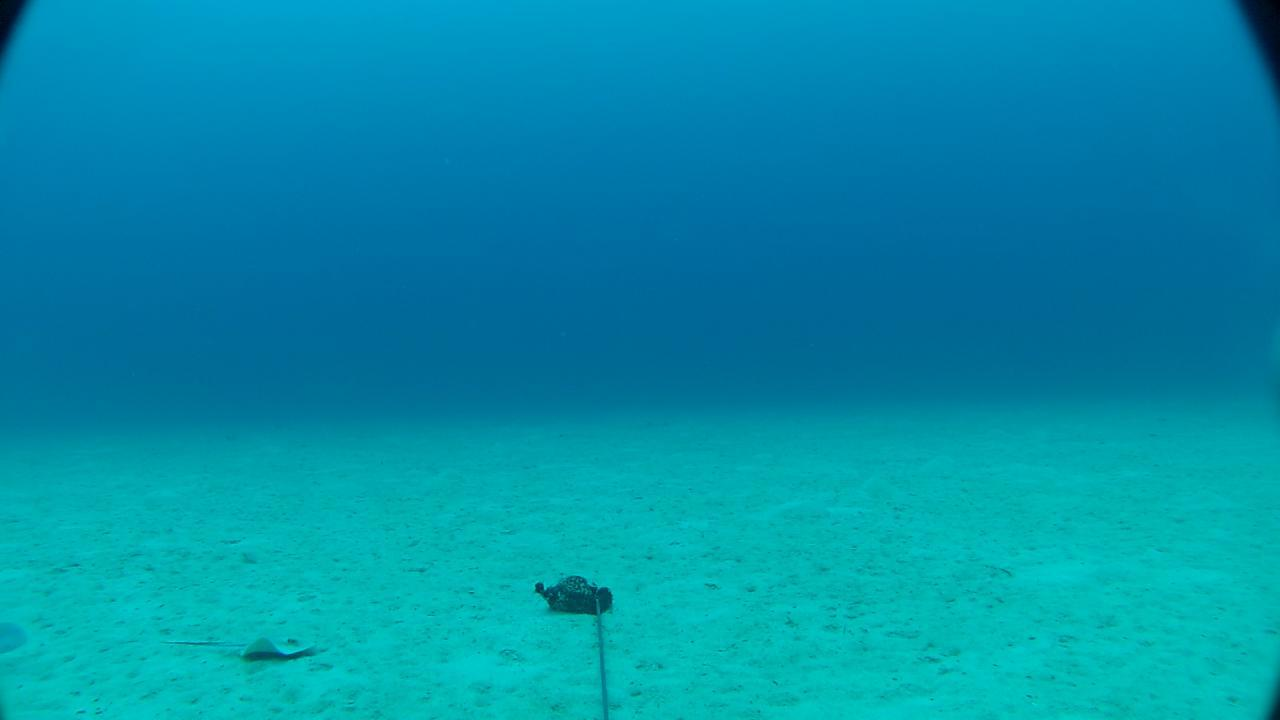dasyatis: (156, 630, 316, 657)
